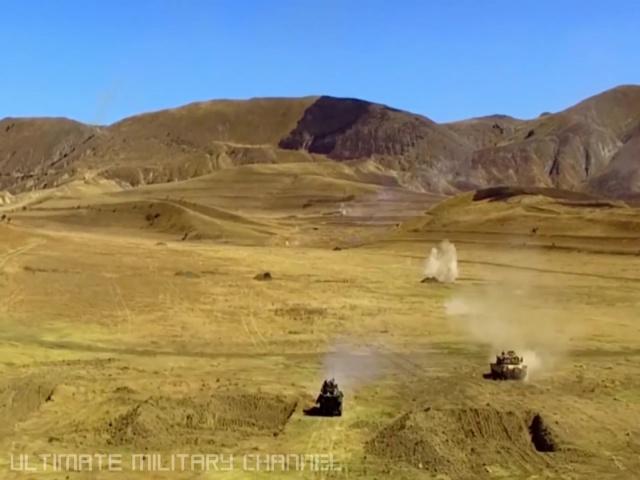vehicle: (490, 350, 528, 382), (315, 377, 345, 417)
